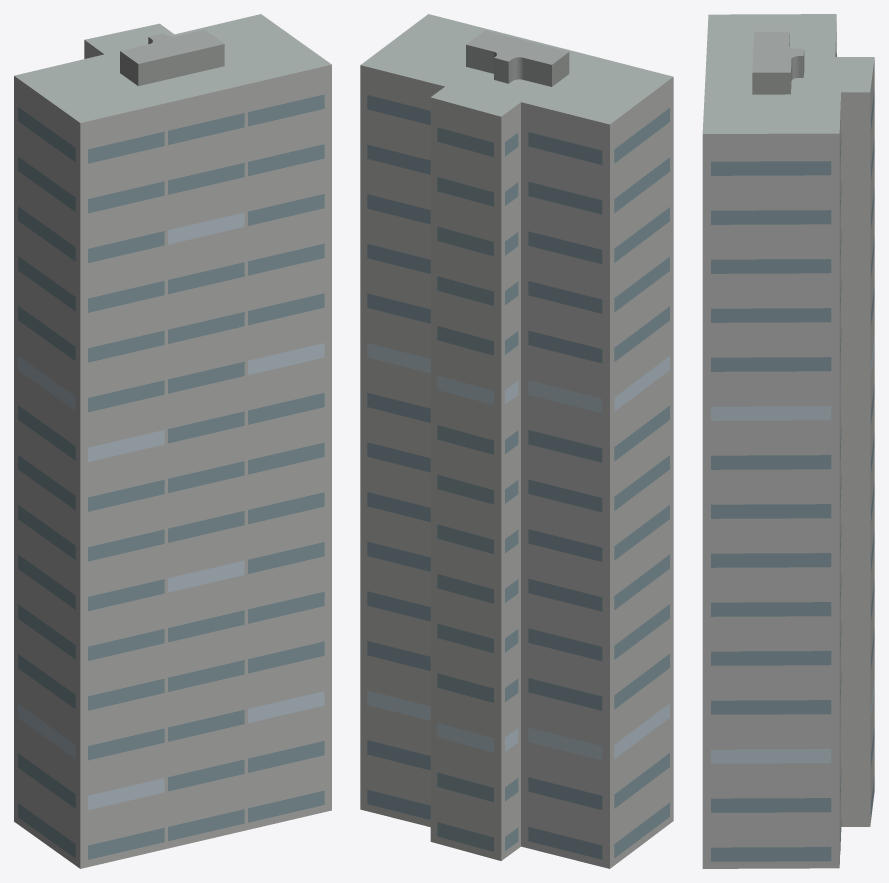
Rendered from fallback-gangdong-lotte-castle-first-109.glb.
The picture shows the model from 3 angles, left to right: view 1: azimuth 30°, elevation 25°; view 2: azimuth 150°, elevation 25°; view 3: azimuth 270°, elevation 25°; orthographic projection.
Visible parts, largest first — view 1: fallback-gangdong-lotte-castle-first-109; view 2: fallback-gangdong-lotte-castle-first-109; view 3: fallback-gangdong-lotte-castle-first-109.
Part boxes in pixels (x1,y1,x2,y2): fallback-gangdong-lotte-castle-first-109: (14,14,331,868); fallback-gangdong-lotte-castle-first-109: (360,14,673,868); fallback-gangdong-lotte-castle-first-109: (702,14,874,868).
Size of the model in its own units: 28.33 by 83 by 17.13.
